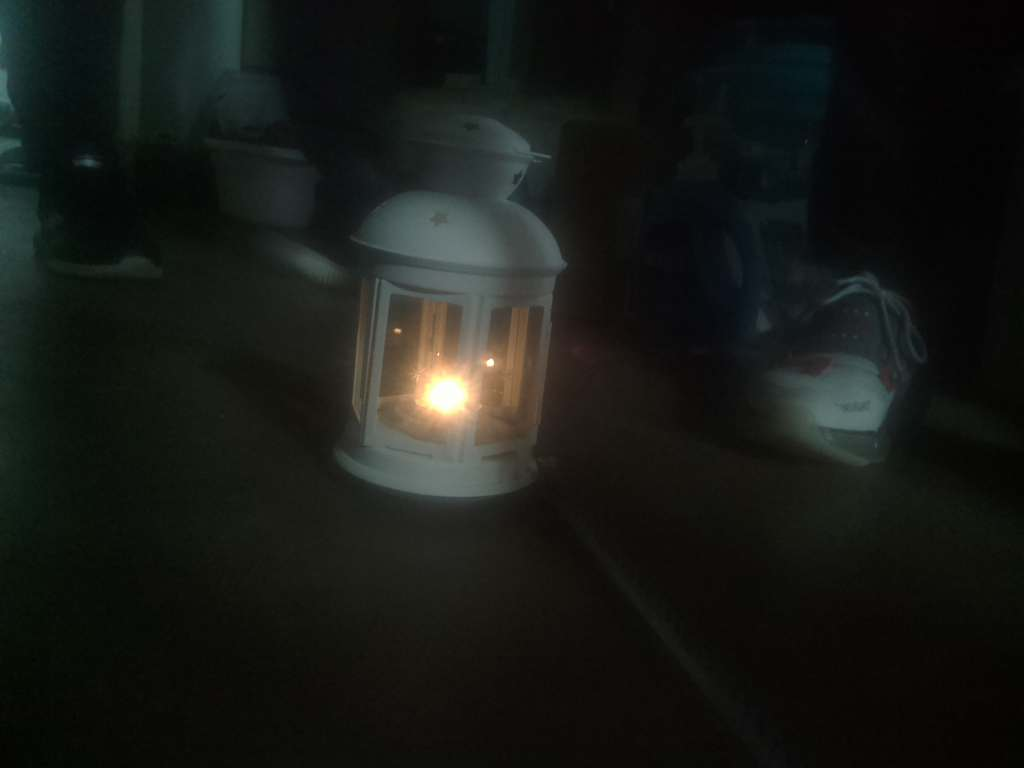fire: (402, 356, 529, 446)
